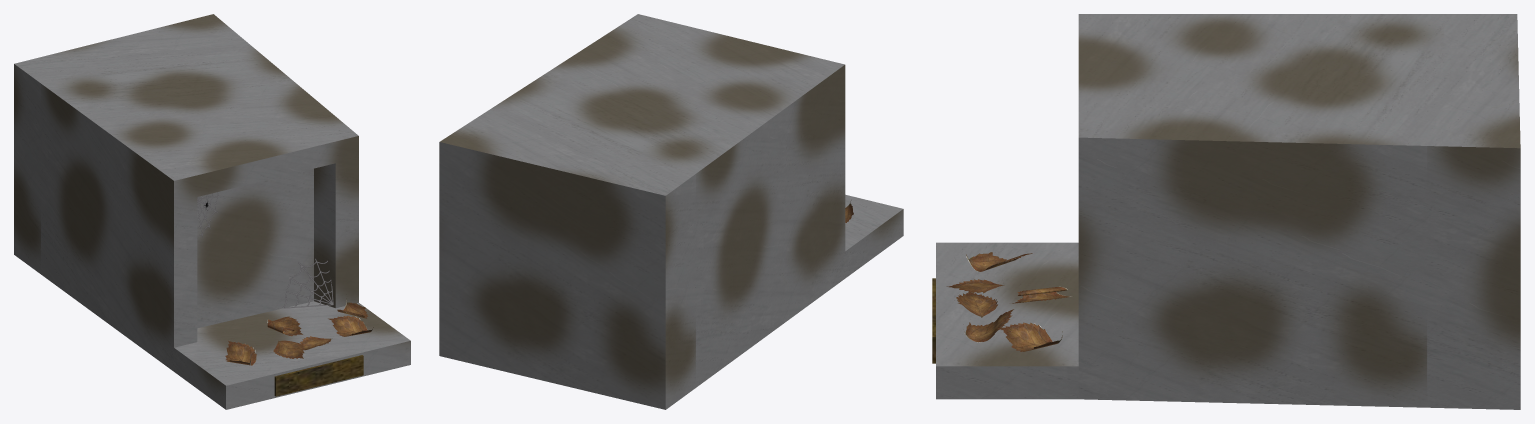
The model's file is dirty_niche.glb.
3 views of the same model, side by side, from view 1: azimuth 30°, elevation 25°; view 2: azimuth 150°, elevation 25°; view 3: azimuth 270°, elevation 25° (orthographic). The views are drawn at different scales.
Parts seen in each view (by area): view 1: Root Node; view 2: Root Node; view 3: Root Node.
Boxes of the visible parts, box(x1,y1,x2,y2) form: Root Node: box(14, 14, 410, 409); Root Node: box(439, 14, 903, 409); Root Node: box(932, 14, 1520, 409).
Size of the model in its own units: 0.4344 by 0.395 by 0.8044.
Materials: 279 (279 with a texture image).
